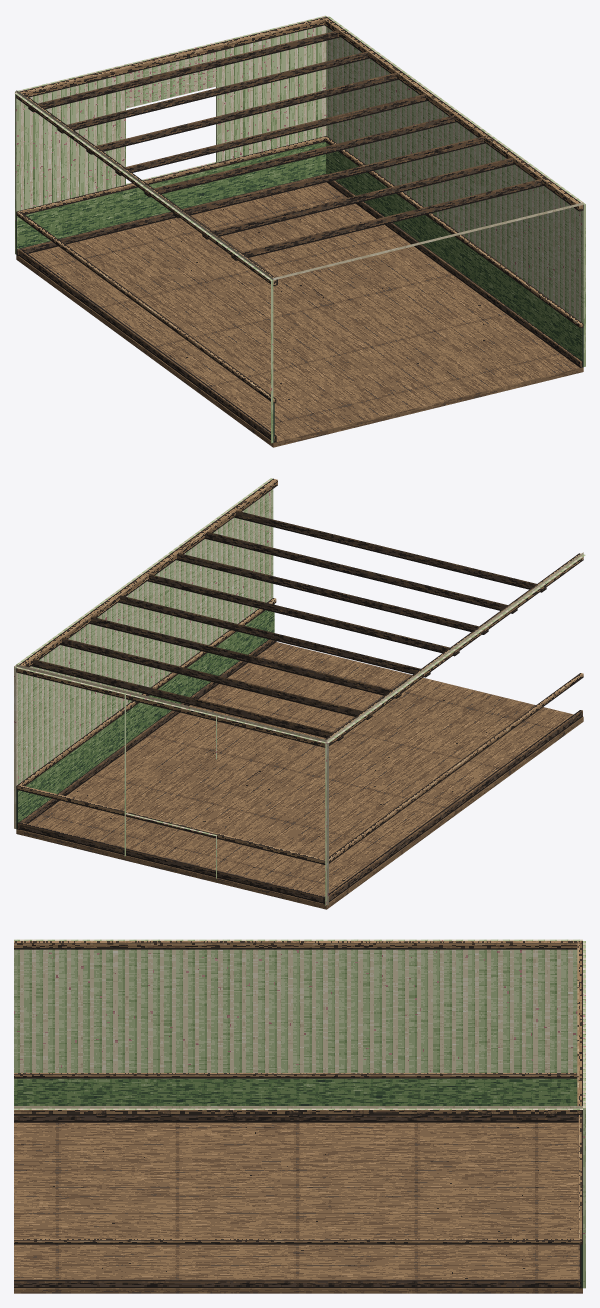
The model's file is room.glb.
3 views of the same model, one above another, from view 1: azimuth 30°, elevation 25°; view 2: azimuth 150°, elevation 25°; view 3: azimuth 270°, elevation 25° (orthographic). The views are drawn at different scales.
Visible parts, largest first — view 1: floor, side_r, wall_l, wall_r, wainscot_b, wainscot_r, wall_t, crown_b, crown_r, beam_1, beam_0, beam_6 (+14 smaller); view 2: floor, side_r, wainscot_r, crown_r, skirt_b, beam_1, beam_4, beam_7, beam_0, beam_3, beam_6, beam_2 (+10 smaller); view 3: floor, side_l, wainscot_l, crown_l, skirt_r, skirt_l, dado_r, dado_l, crown_r, ceiling, side_r, crown_b (+2 smaller).
Boxes of the visible parts, bbox=[...] form: floor: bbox=[16, 182, 583, 447]; side_r: bbox=[326, 16, 585, 366]; wall_l: bbox=[15, 64, 125, 254]; wall_r: bbox=[216, 15, 326, 162]; wainscot_b: bbox=[16, 142, 325, 254]; wainscot_r: bbox=[326, 142, 583, 367]; wall_t: bbox=[125, 42, 216, 108]; crown_b: bbox=[16, 16, 328, 99]; crown_r: bbox=[323, 17, 583, 211]; beam_1: bbox=[57, 51, 369, 133]; beam_0: bbox=[28, 30, 340, 112]; beam_6: bbox=[202, 157, 514, 239]; floor: bbox=[16, 642, 583, 909]; side_r: bbox=[14, 478, 273, 828]; wainscot_r: bbox=[16, 604, 274, 829]; crown_r: bbox=[16, 478, 277, 672]; skirt_b: bbox=[18, 822, 325, 903]; beam_1: bbox=[60, 638, 372, 719]; beam_4: bbox=[147, 574, 459, 656]; beam_7: bbox=[234, 510, 546, 592]; beam_0: bbox=[31, 659, 343, 741]; beam_3: bbox=[118, 595, 430, 677]; beam_6: bbox=[205, 531, 517, 613]; beam_2: bbox=[89, 616, 401, 698]; floor: bbox=[14, 1122, 582, 1293]; side_l: bbox=[14, 939, 582, 1072]; wainscot_l: bbox=[14, 1078, 577, 1105]; crown_l: bbox=[14, 941, 582, 949]; skirt_r: bbox=[14, 1279, 578, 1287]; skirt_l: bbox=[14, 1115, 578, 1122]; dado_r: bbox=[14, 1239, 582, 1244]; dado_l: bbox=[14, 1073, 577, 1078]; crown_r: bbox=[14, 1110, 582, 1114]; ceiling: bbox=[14, 1106, 582, 1108]; side_r: bbox=[14, 1108, 582, 1109]; crown_b: bbox=[577, 941, 582, 1114].
Bounding box in the file's own units: 138 × 71 × 196.
1 material, 1 textured.
